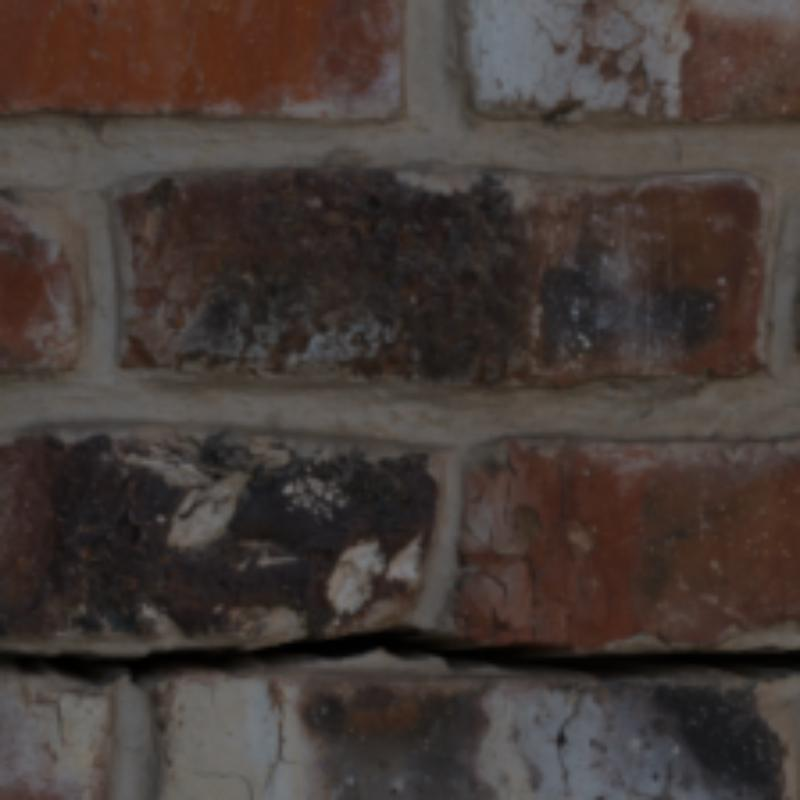pothole: (0, 625, 796, 682), (554, 682, 586, 793), (264, 686, 286, 793)
